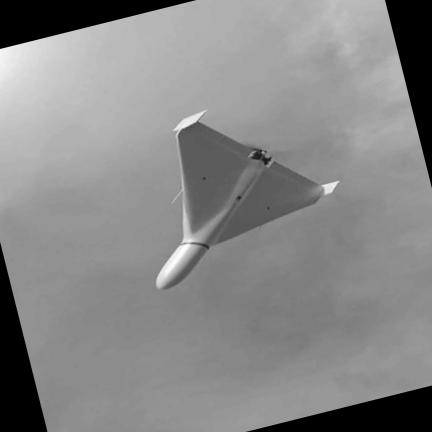Shahed: (155, 110, 339, 288)
